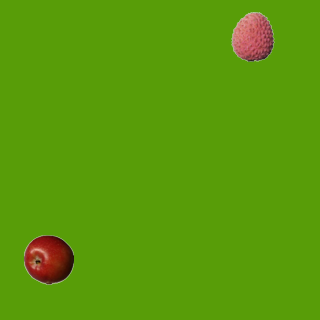Apple Braeburn: (23, 234, 73, 284)
Lychee: (227, 11, 277, 61)
